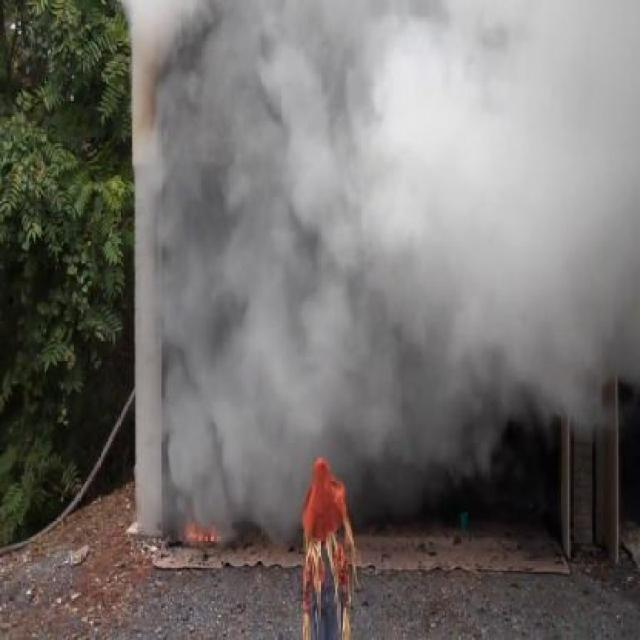smoke: (121, 19, 640, 570)
